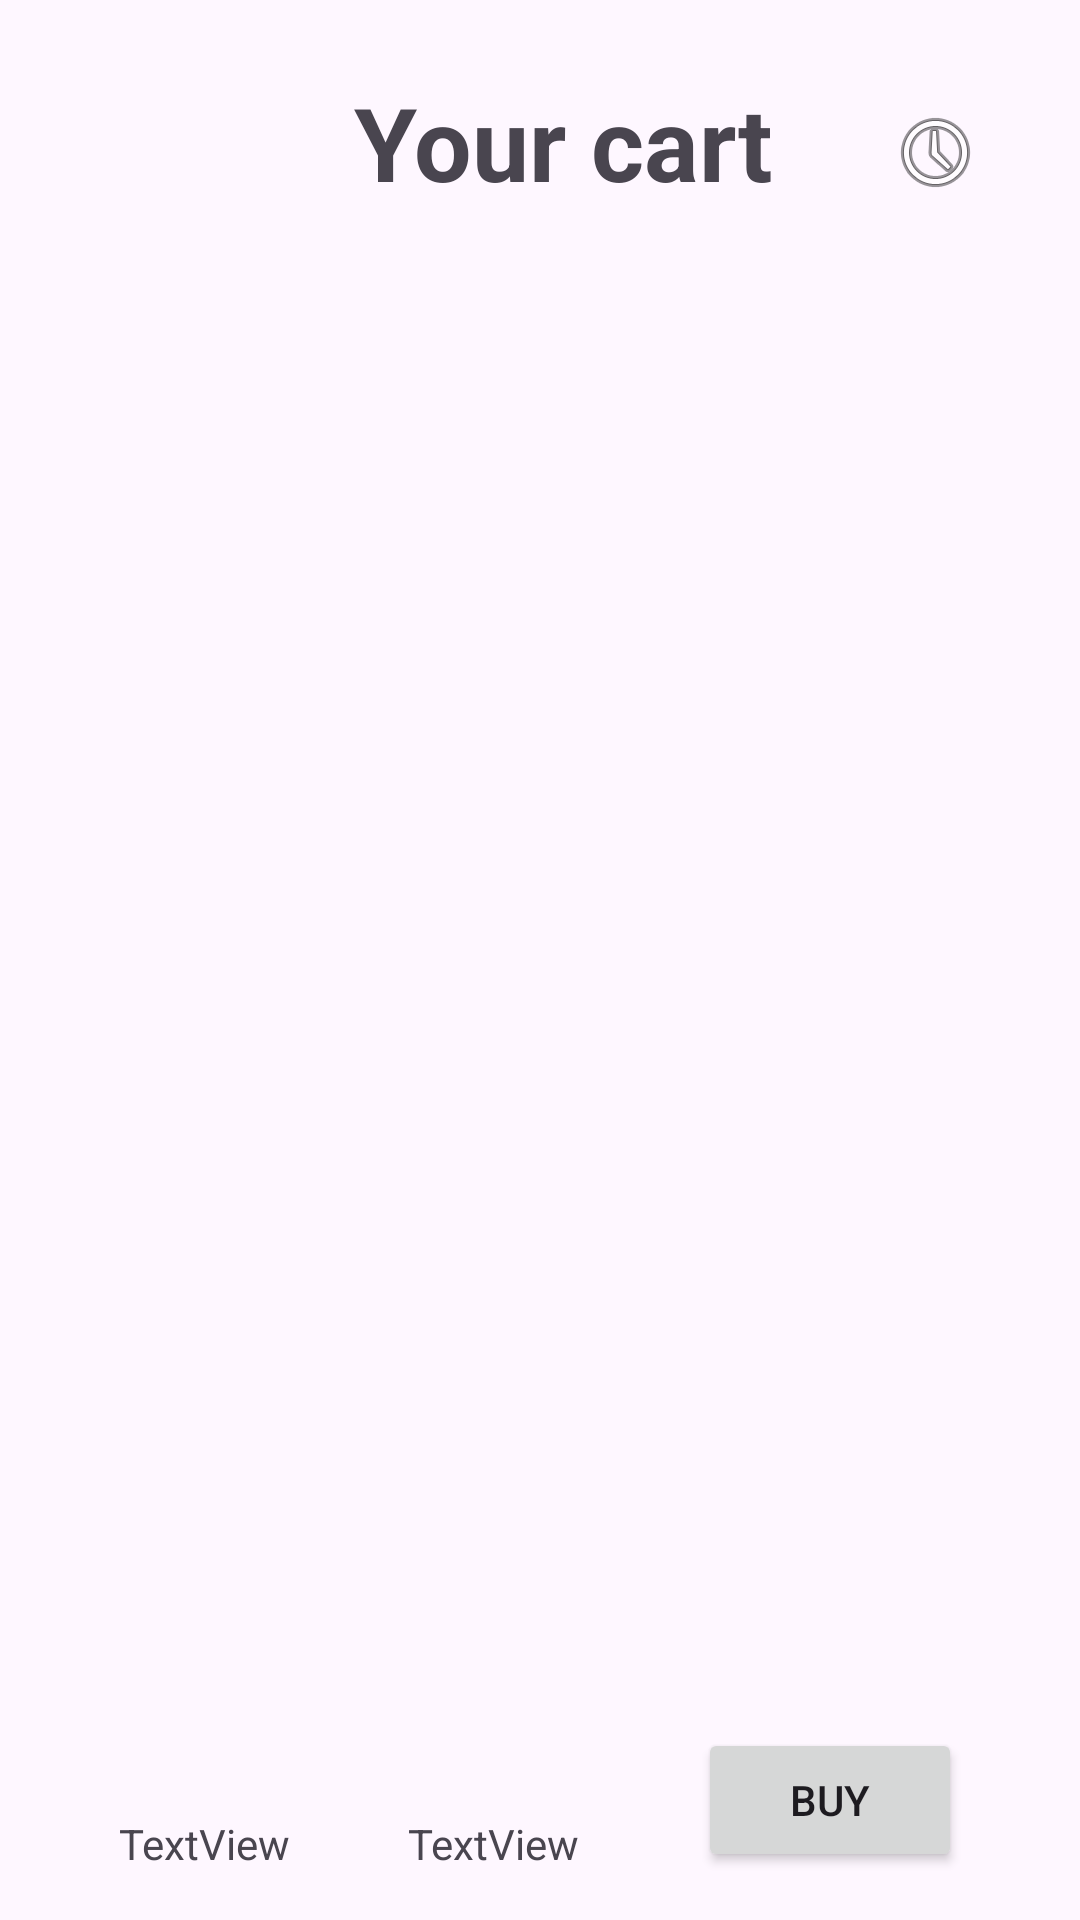

Icon bounding boxes for this 1080px x 1920px phone screenshot, format bbox=[x1, y1, x2, y2]:
recent history: bbox=[901, 118, 970, 187]
